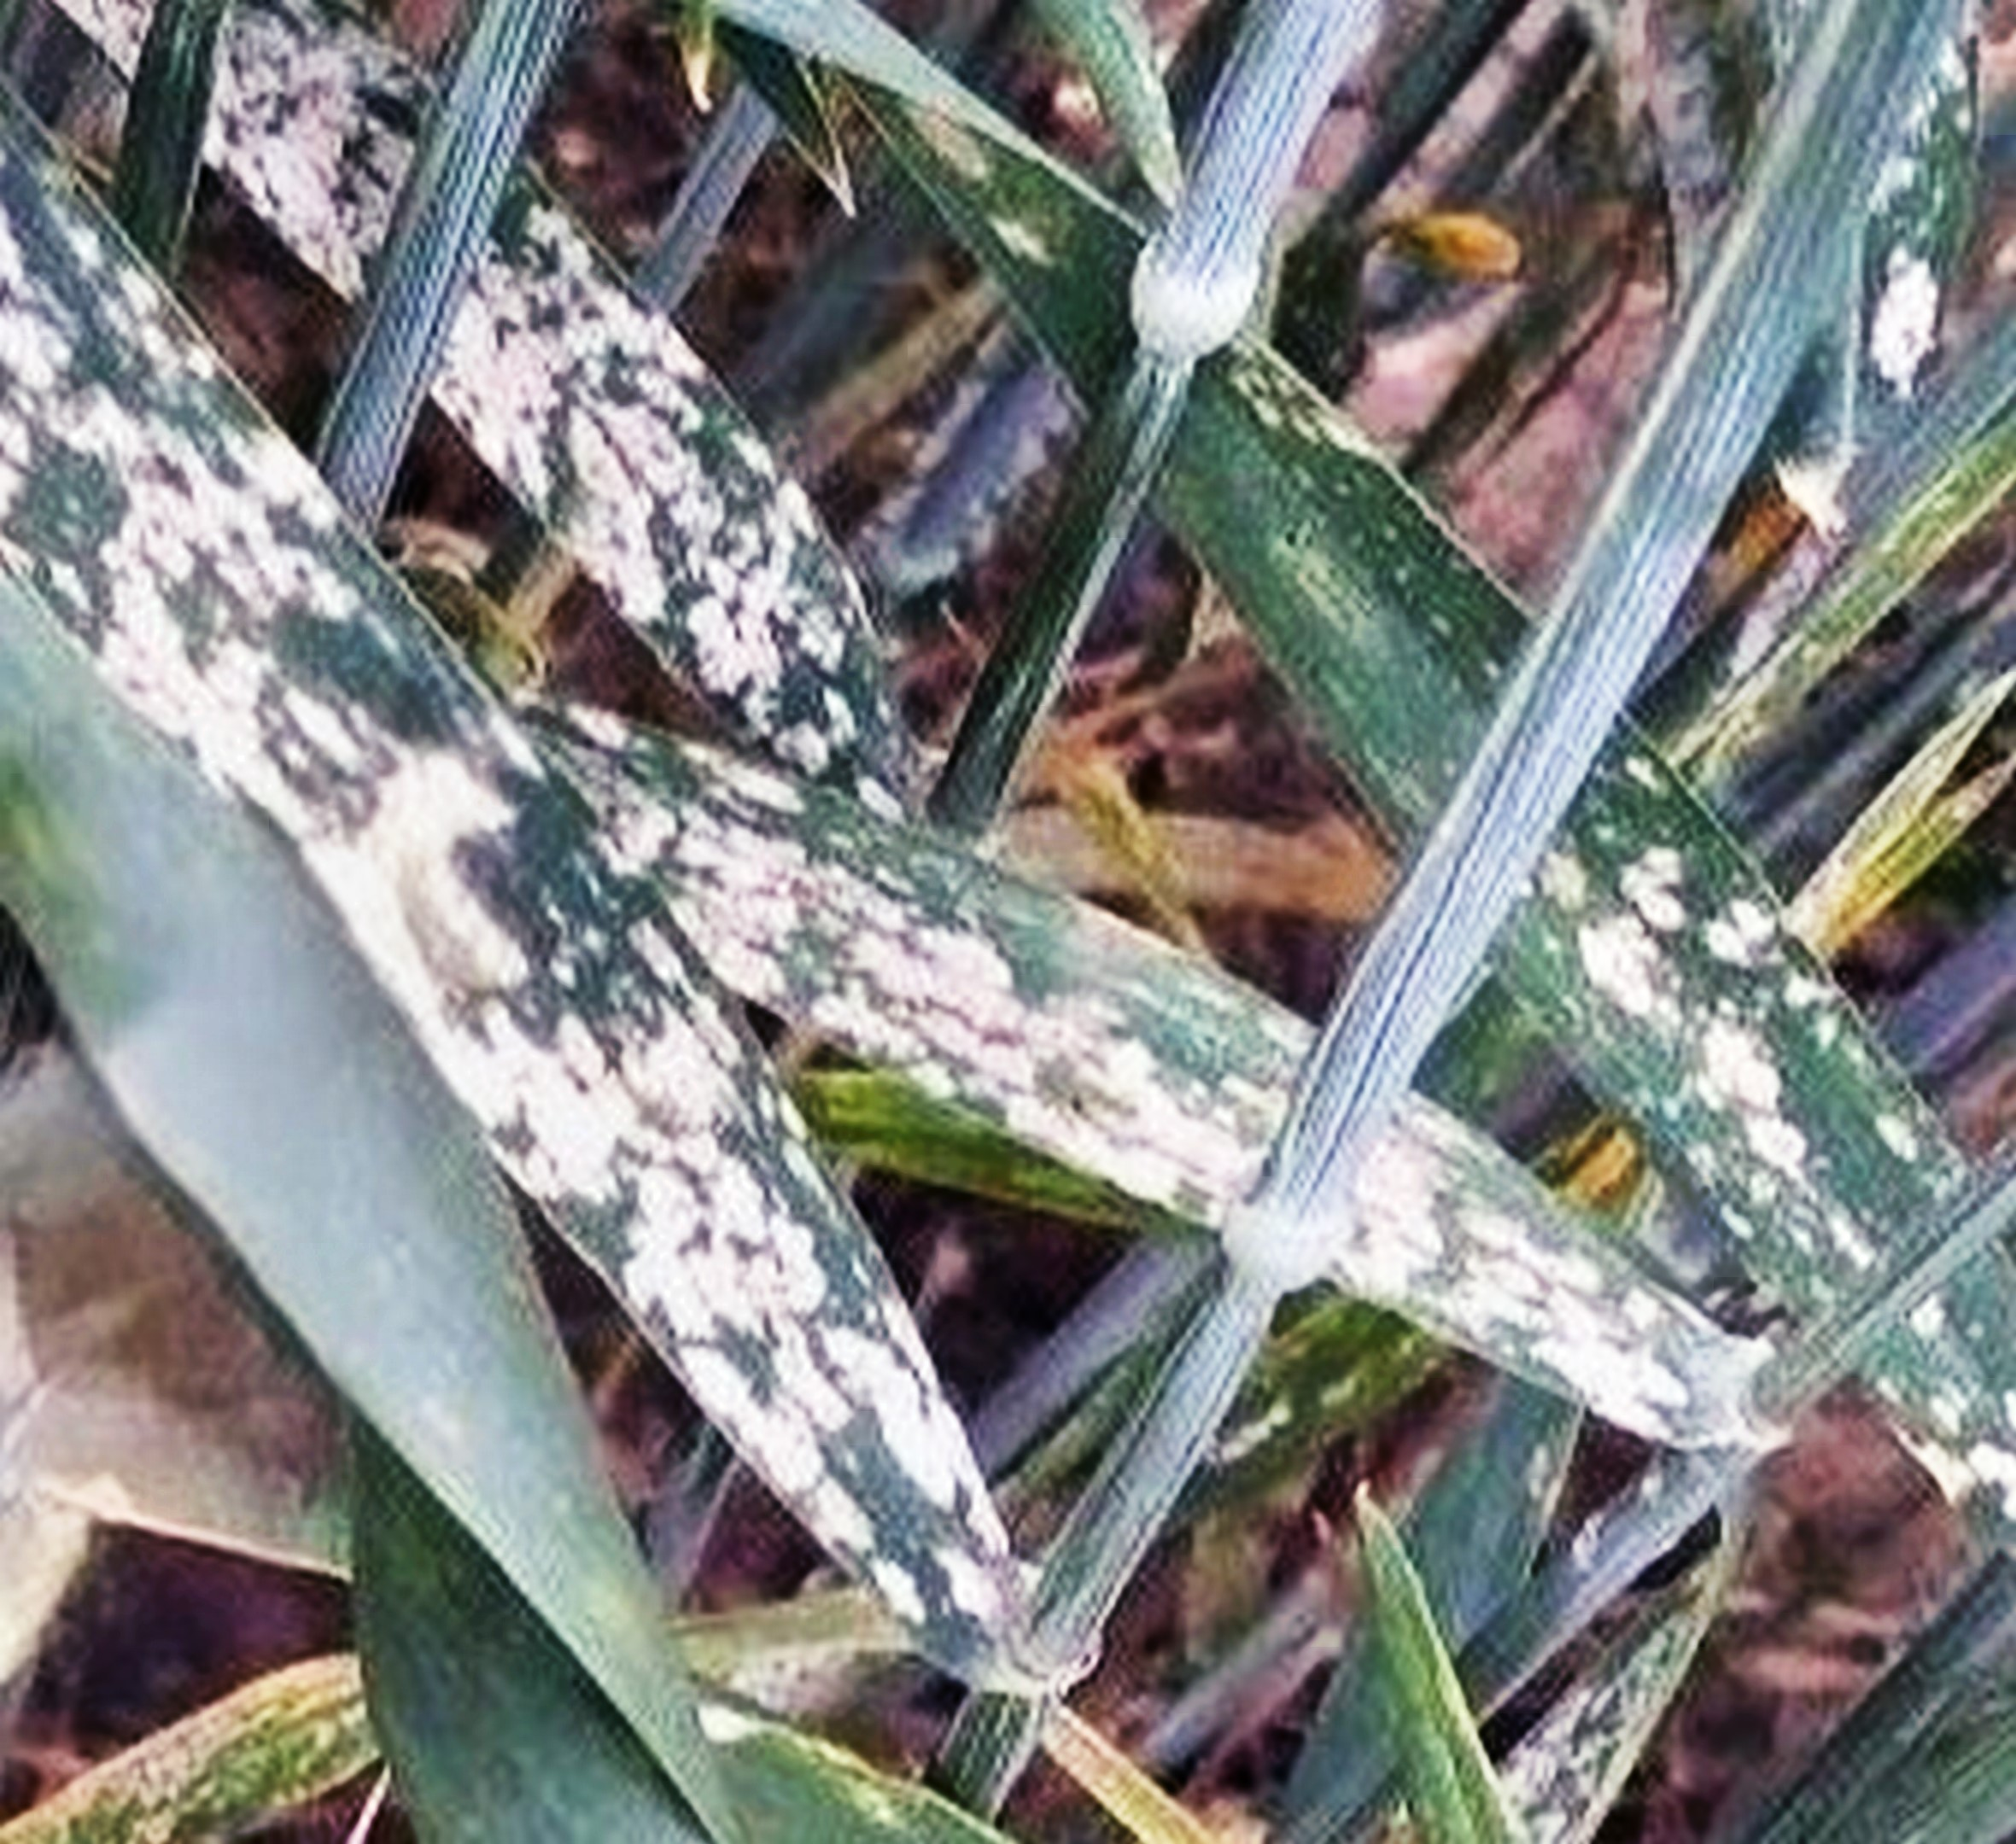Powdery Mildew: (585, 782, 1484, 1345), (299, 65, 904, 681), (1519, 834, 1967, 1296)
